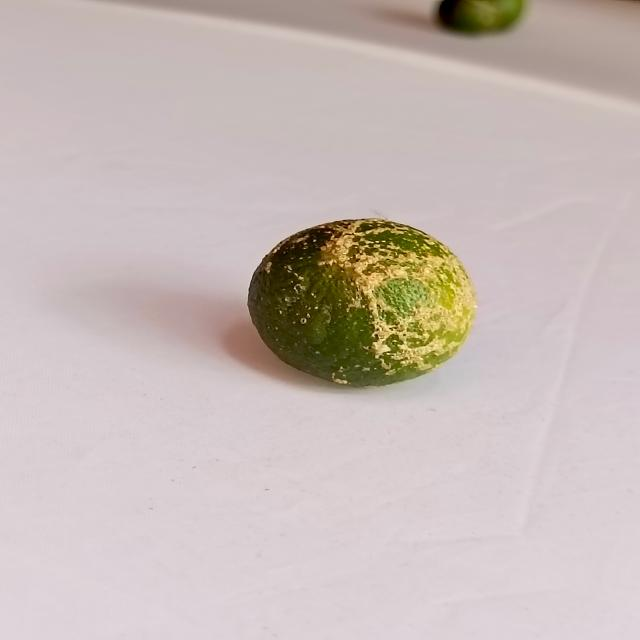scab: (254, 212, 483, 388)
